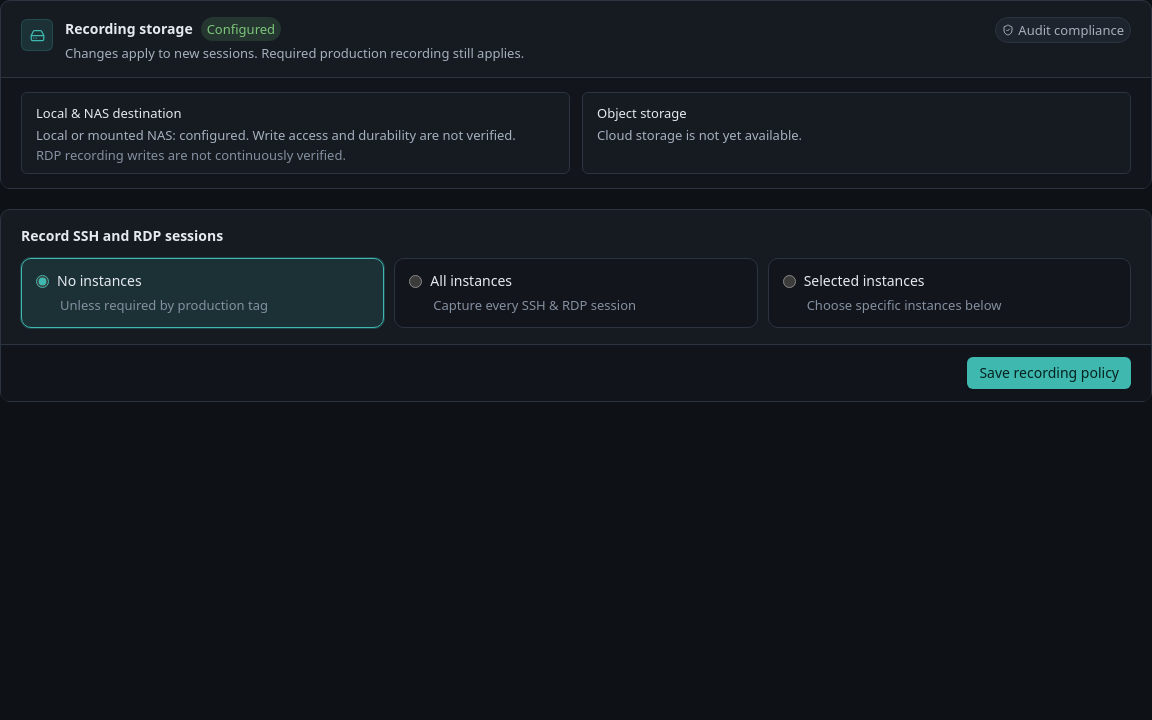
lets the administrator save selected instances
Later steps or results of the test are not shown.
Click the radio button labelled "Selected instances" at [789, 281], box top-left (783, 274), bottom-right (796, 288)
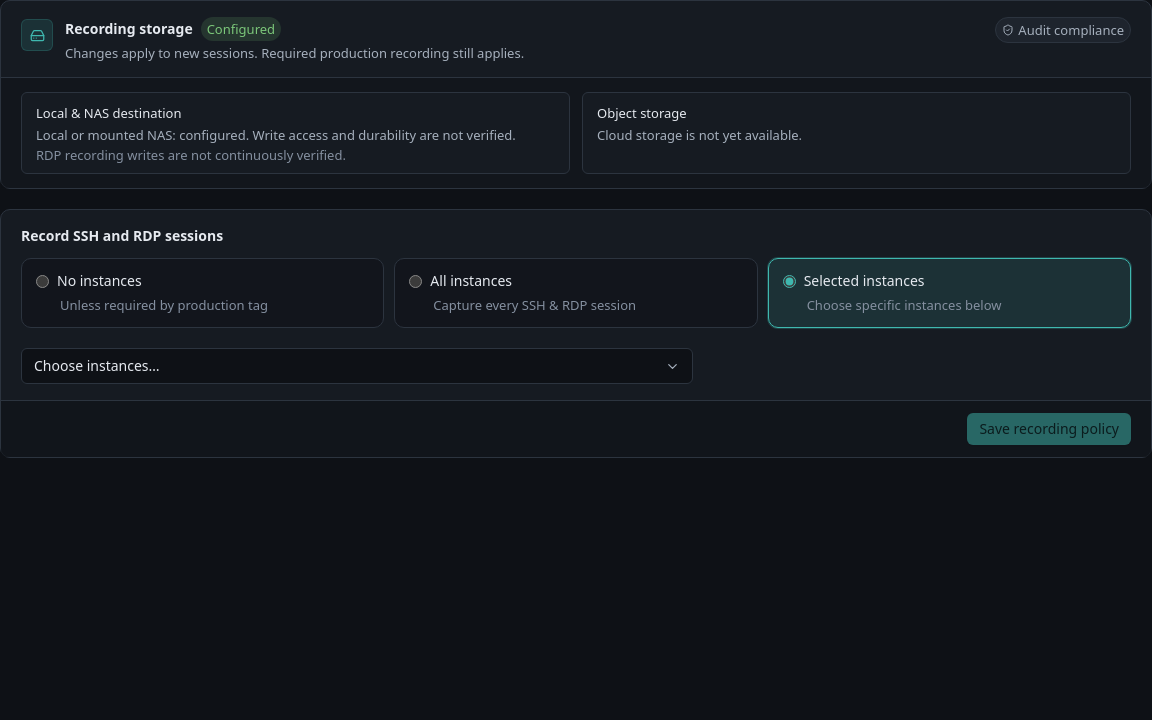
Click the button "Choose instances…" at [97, 366], box top-left (21, 348), bottom-right (693, 384)
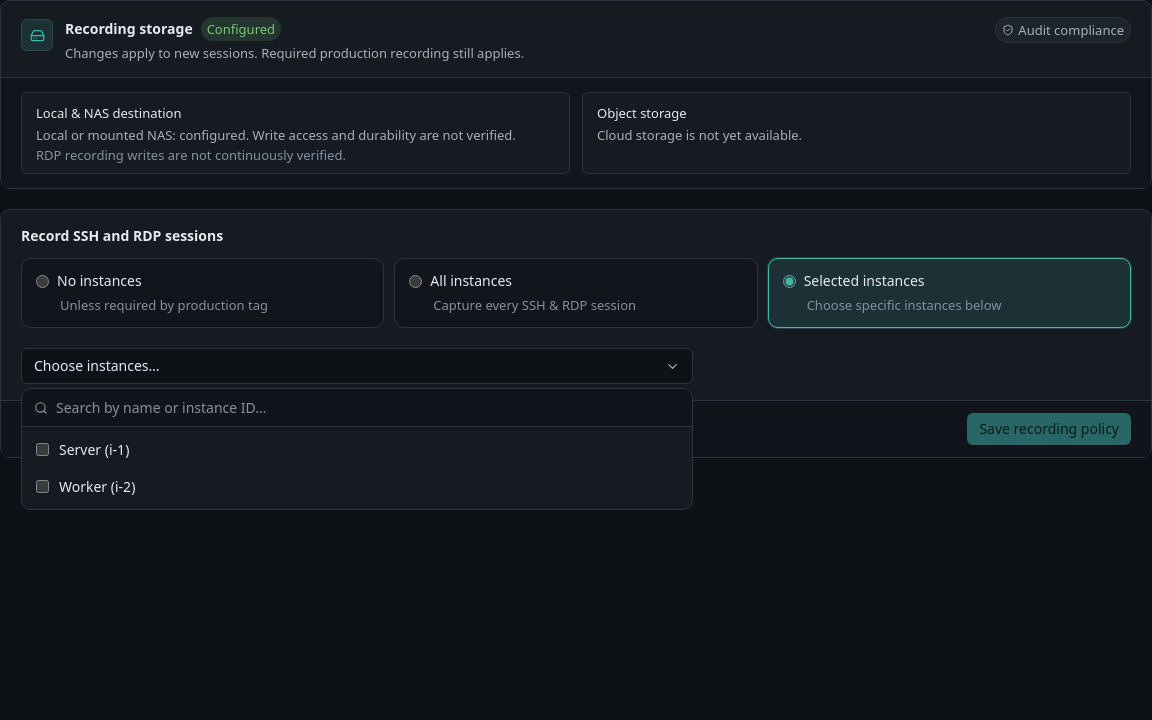
Click the checkbox labelled "Server (i-1)" at [42, 450], box top-left (36, 443), bottom-right (49, 456)
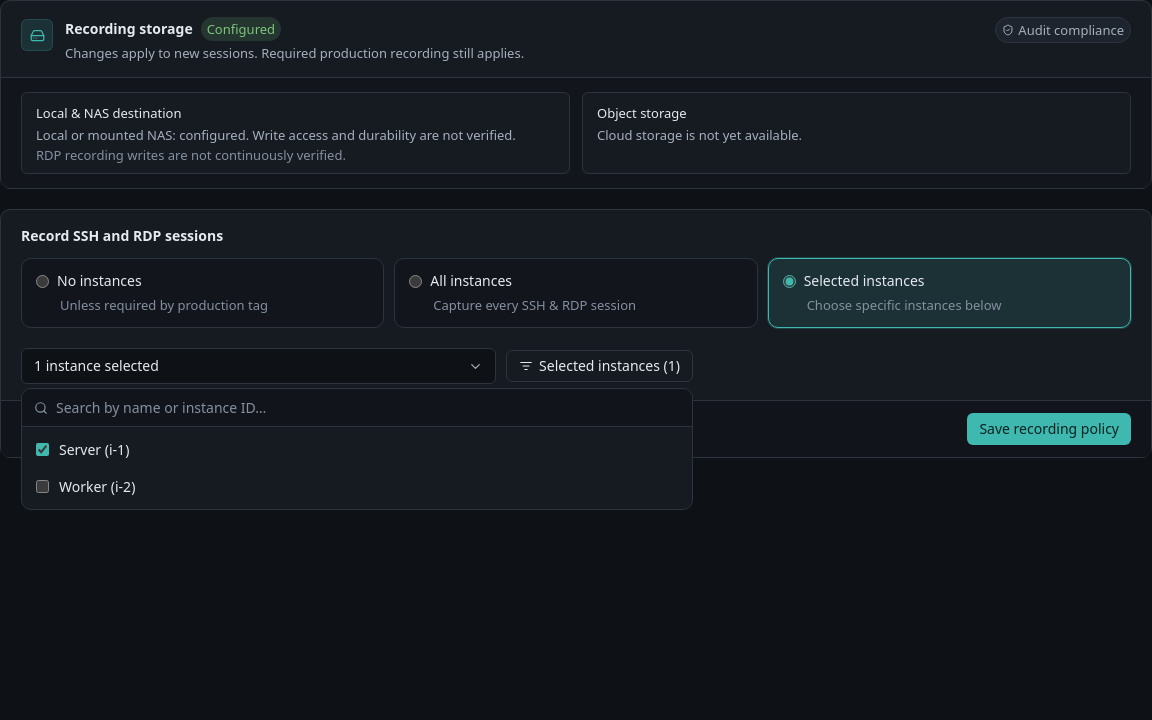
Expected: the button "Selected instances (1)" is shown, top-left (506, 350), bottom-right (693, 382)
